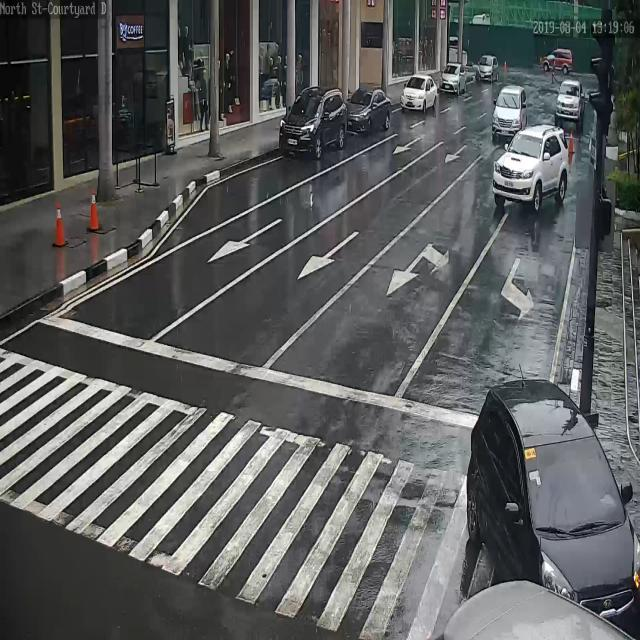car: (467, 379, 640, 637), (441, 577, 640, 640), (492, 124, 569, 211), (279, 86, 348, 155), (346, 86, 391, 133), (492, 84, 527, 139), (400, 72, 437, 114), (555, 78, 585, 125), (442, 61, 466, 96), (540, 48, 573, 69), (476, 54, 499, 82)
